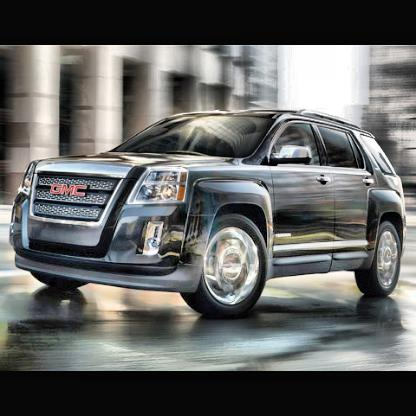GMC Terrain SUV 2012: (6, 109, 409, 322)
